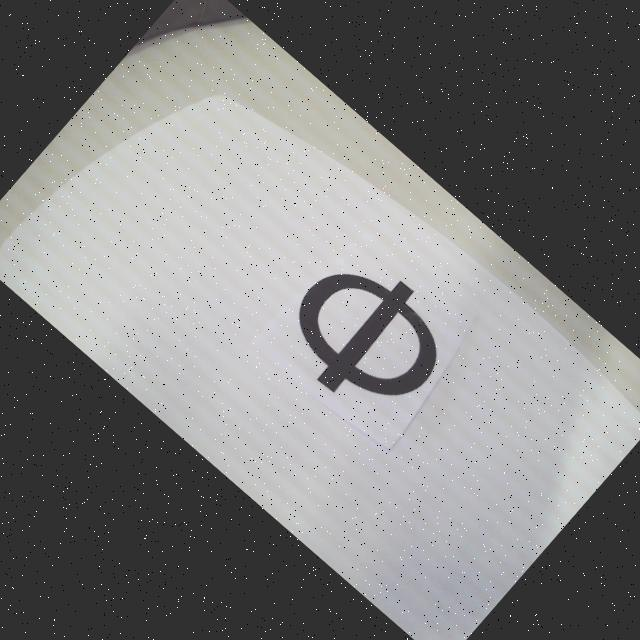PHI: (268, 238, 466, 435)
